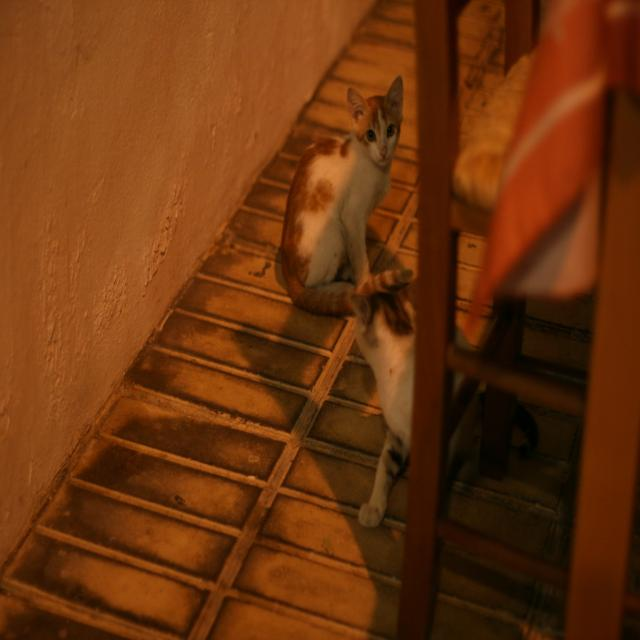Cat: (347, 288, 543, 535), (274, 67, 415, 315)
